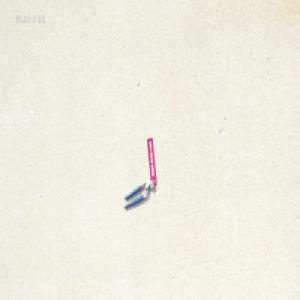Label: (146, 138, 156, 186)
Pliers: (123, 179, 154, 210)
